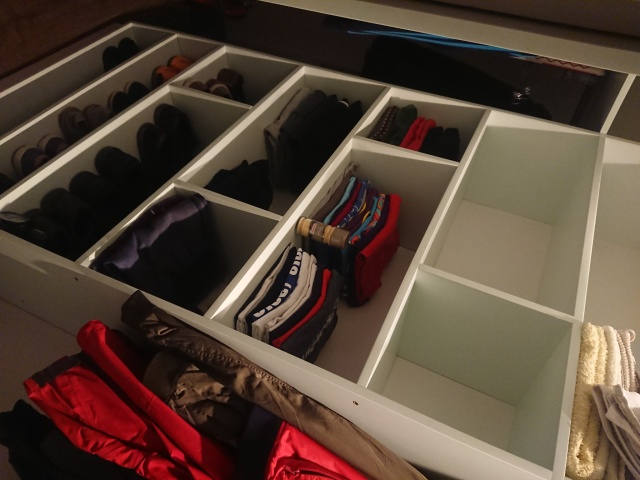Kotanyi Garlic Granules 70g: (294, 215, 352, 251)
